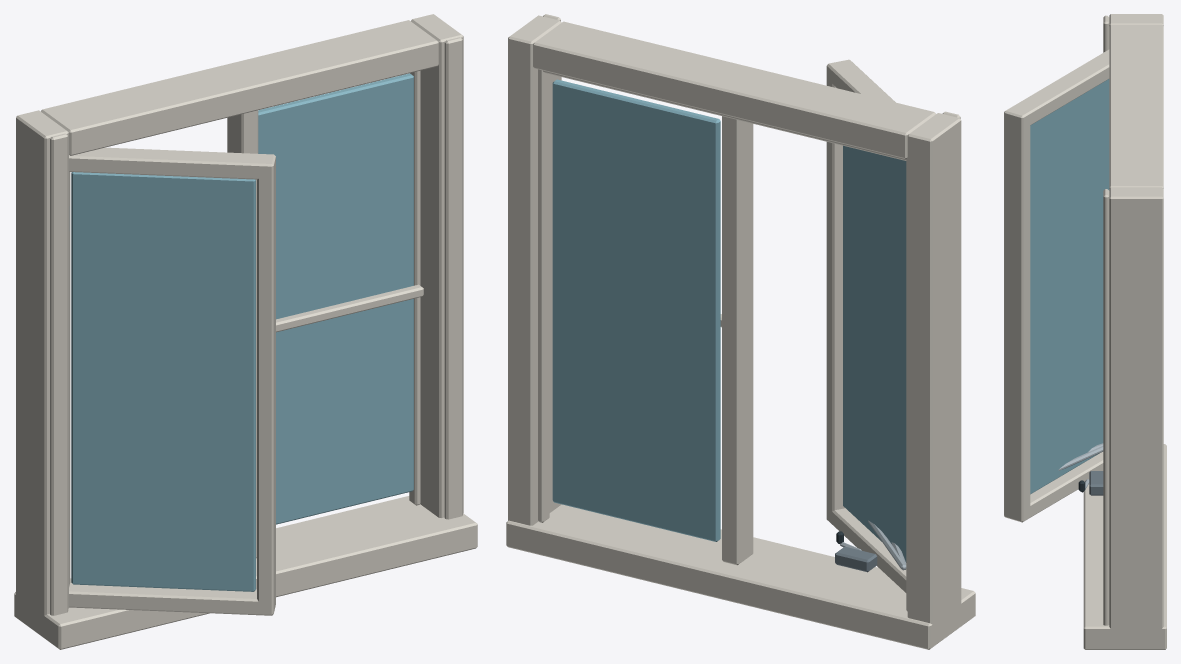
Rendered from b12_open_casement_window.glb.
3 views of the same model, side by side, from view 1: azimuth 30°, elevation 25°; view 2: azimuth 150°, elevation 25°; view 3: azimuth 270°, elevation 25° (orthographic). The views are drawn at different scales.
Parts seen in each view (by area): view 1: b12_open_casement_window; view 2: b12_open_casement_window; view 3: b12_open_casement_window.
Part boxes in pixels (left/top/right/bottom): b12_open_casement_window: left=14, top=14, right=477, bottom=649; b12_open_casement_window: left=506, top=14, right=975, bottom=649; b12_open_casement_window: left=1004, top=14, right=1166, bottom=649.
Bounding box in the file's own units: 1.36 × 1.56 × 0.508.
